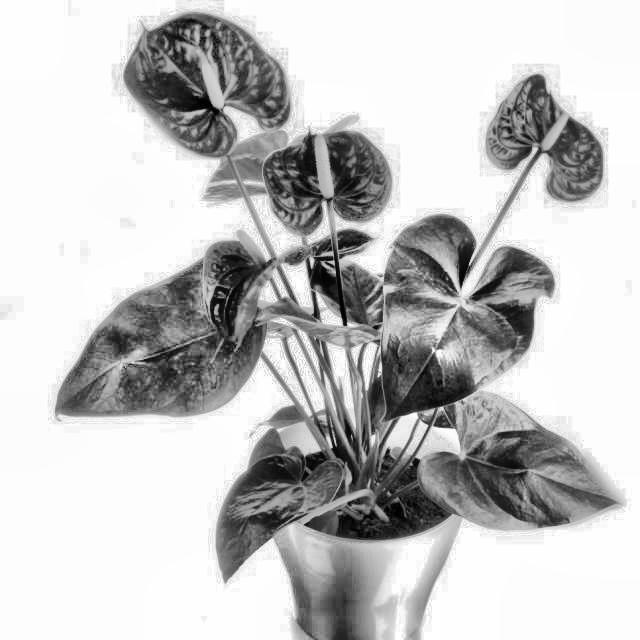plants: (62, 23, 616, 636)
